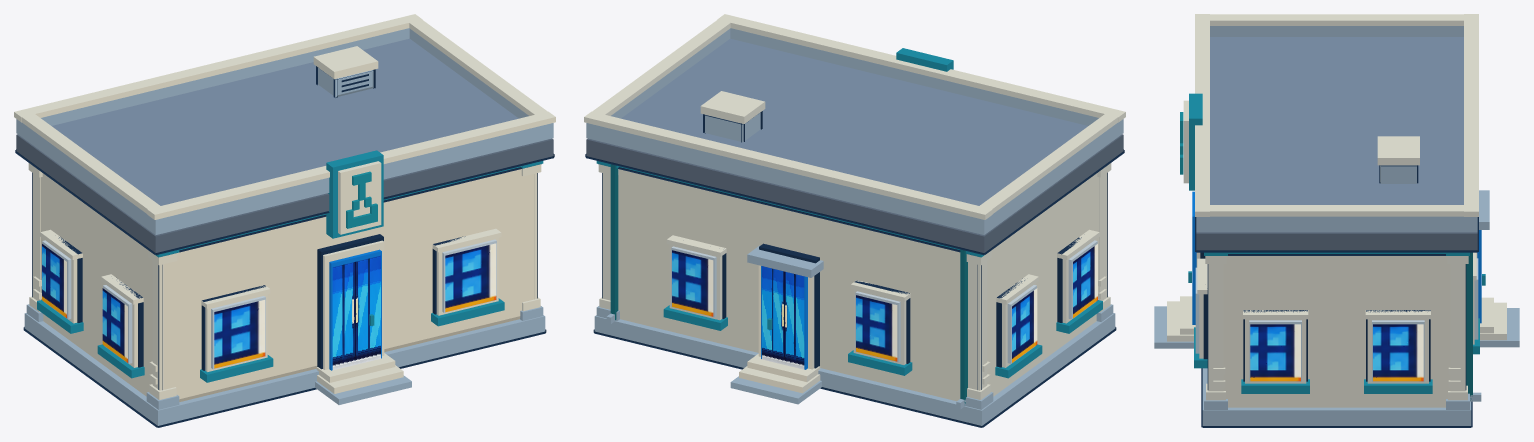
3 views of the same model, side by side, from view 1: azimuth 30°, elevation 25°; view 2: azimuth 150°, elevation 25°; view 3: azimuth 270°, elevation 25° (orthographic).
Visible parts, largest first — view 1: B12 检测服务站; view 2: B12 检测服务站; view 3: B12 检测服务站.
Part boxes in pixels (x1=…): B12 检测服务站: x1=14, y1=14, x2=555, y2=427; B12 检测服务站: x1=584, y1=14, x2=1125, y2=427; B12 检测服务站: x1=1154, y1=14, x2=1519, y2=427.
Size of the model in its own units: 8.34 by 4.52 by 6.51.
Materials: 2 (1 with a texture image).
